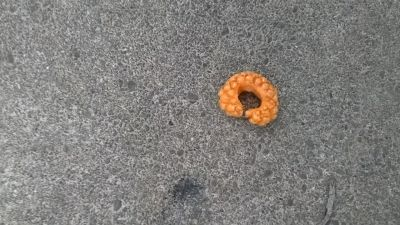eggs: (218, 69, 280, 130)
